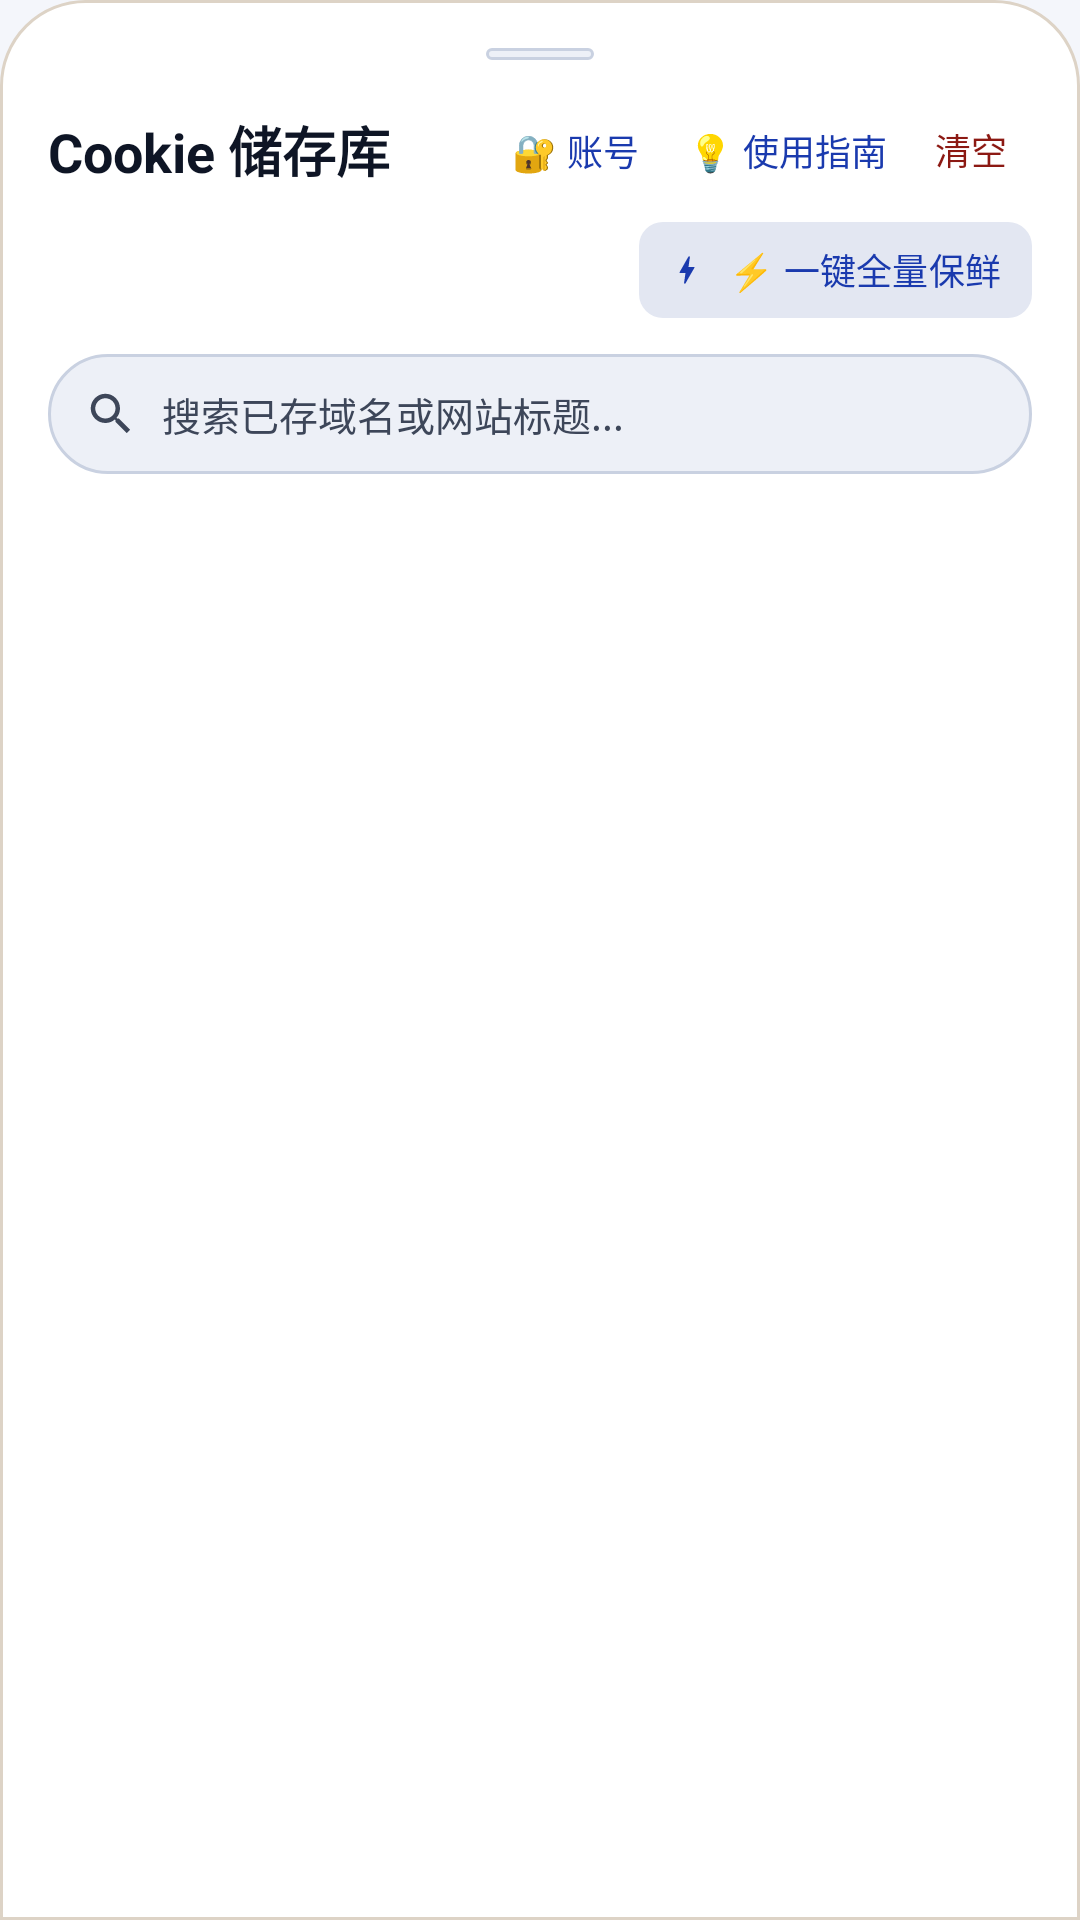

Icons on this 1080*1920 Android screen, each with its box as region(x1, y1, x2, y2):
search: region(90, 393, 130, 433)
